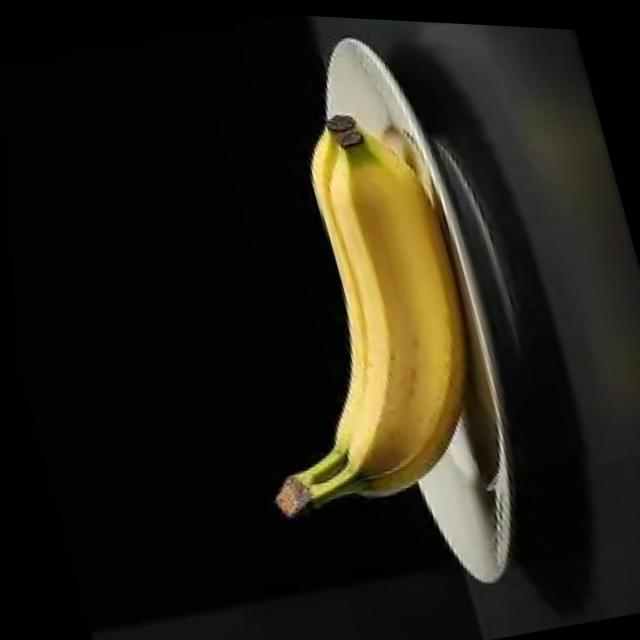BANANA: (274, 115, 466, 513)
